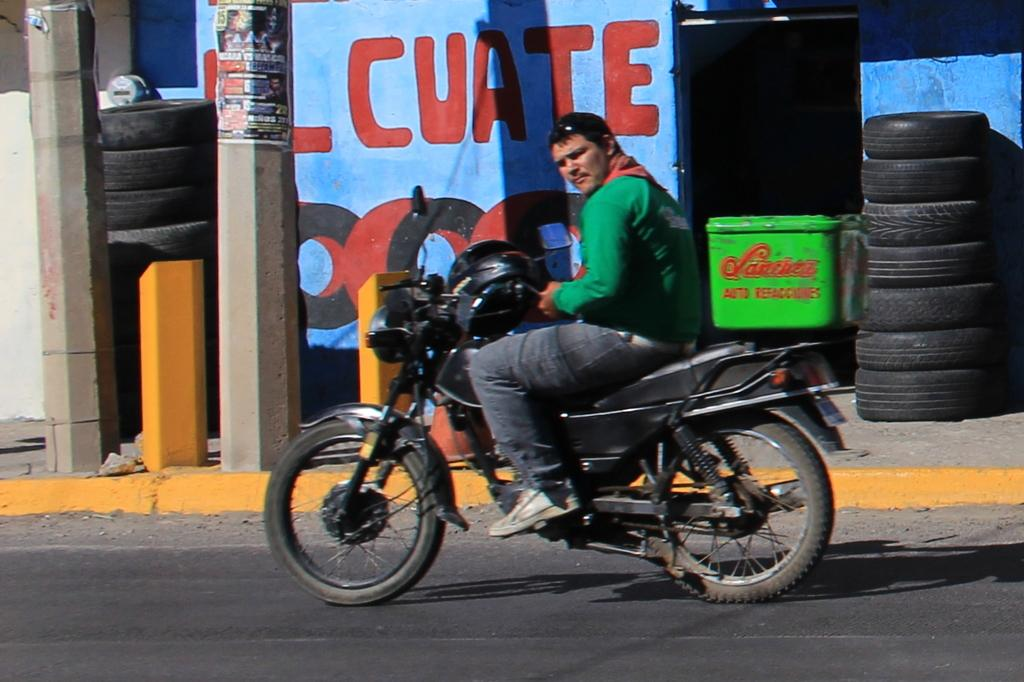helmet: (446, 239, 541, 338)
nohelmet: (547, 111, 620, 200)
